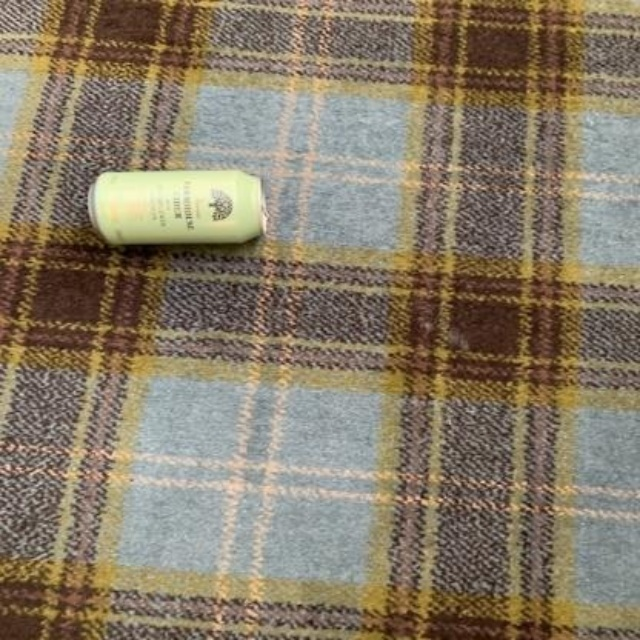trash: (88, 171, 265, 243)
